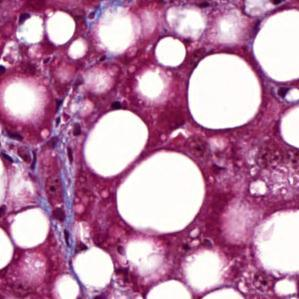steatosis: (115, 151, 205, 233), (187, 53, 265, 133), (7, 204, 53, 251), (154, 33, 188, 70)
